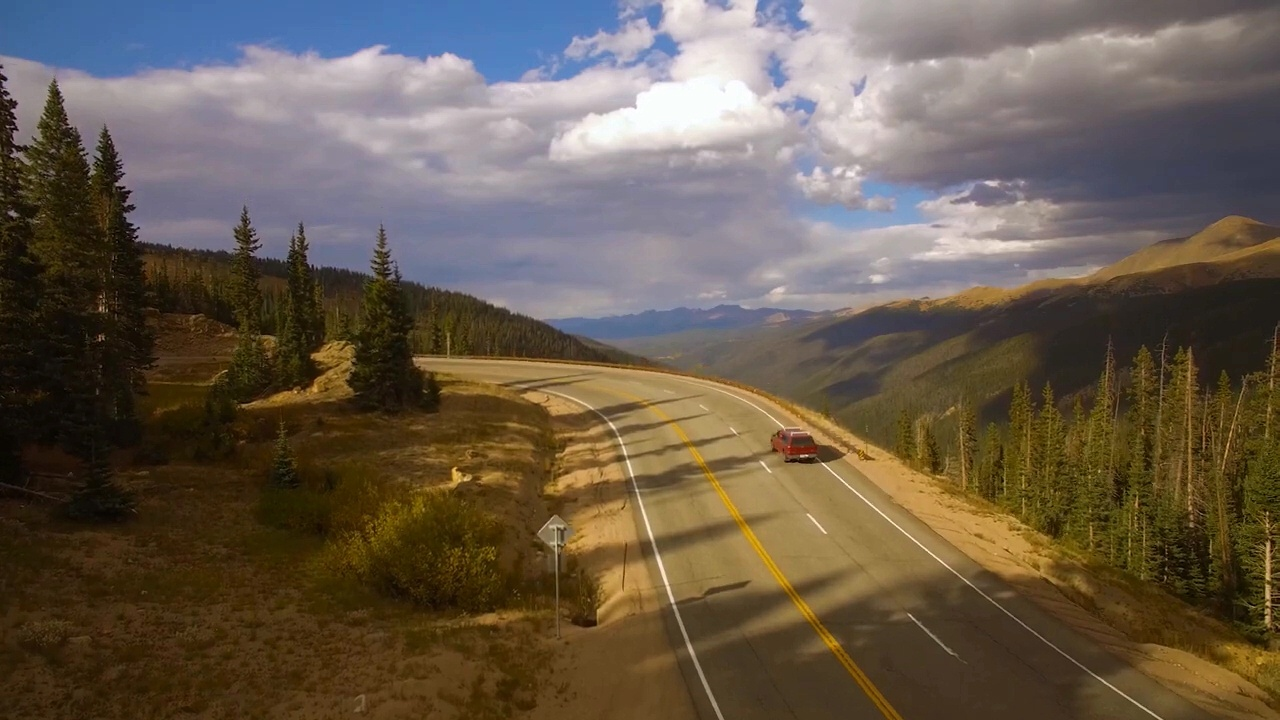araba: (769, 424, 816, 463)
